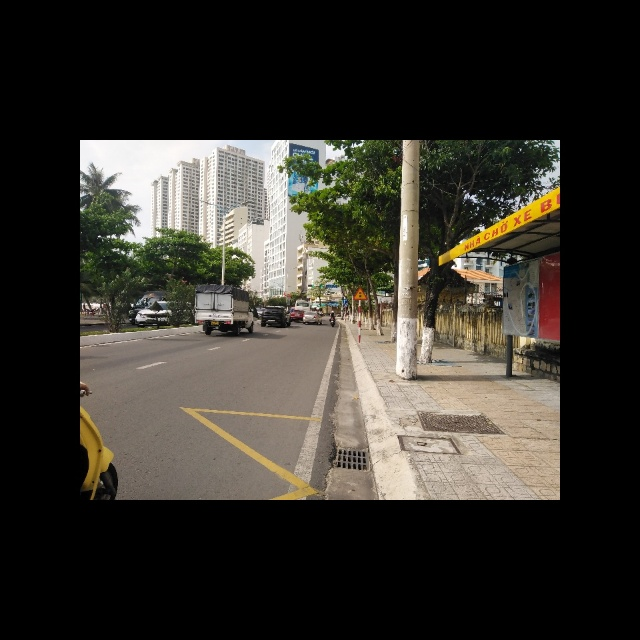Giao nhau có tín hiệu đèn: (353, 285, 369, 301)
